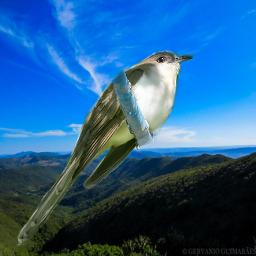Cuckoo: (14, 49, 194, 251)
